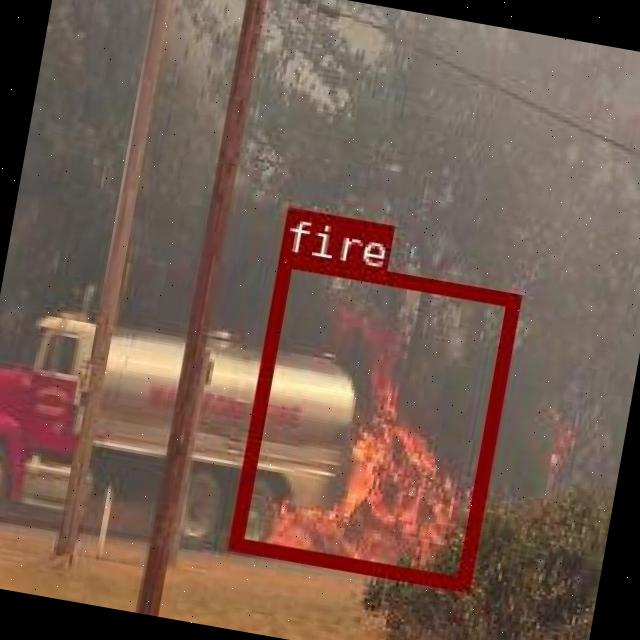fire: (226, 250, 518, 586)
